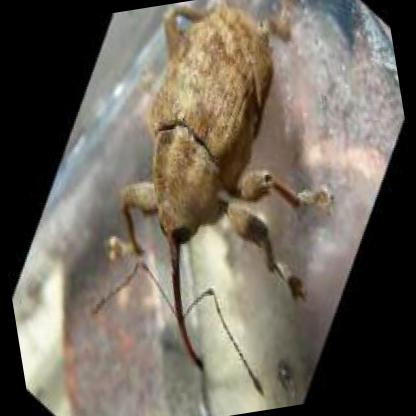ash weevil: (120, 4, 325, 377)
